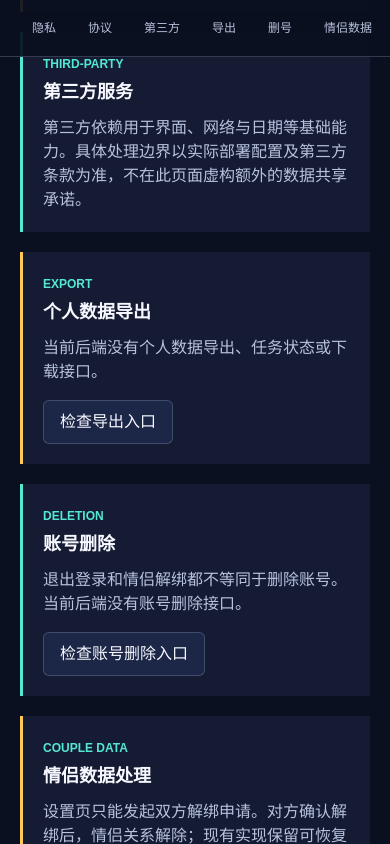
Test: 法律、隐私与数据权利页 › 已登录确认导出后固定 unavailable，零下载且不伪造进度或成功
This screenshot has width=390, height=844.
(page scrolled)
Click the button with test id "export-action": (108, 422) [43, 400, 173, 444]
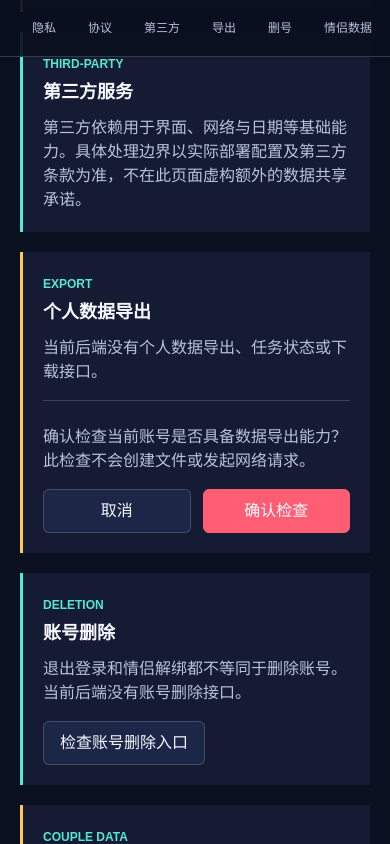
Click the button with test id "export-confirm": (276, 511) [202, 489, 350, 533]
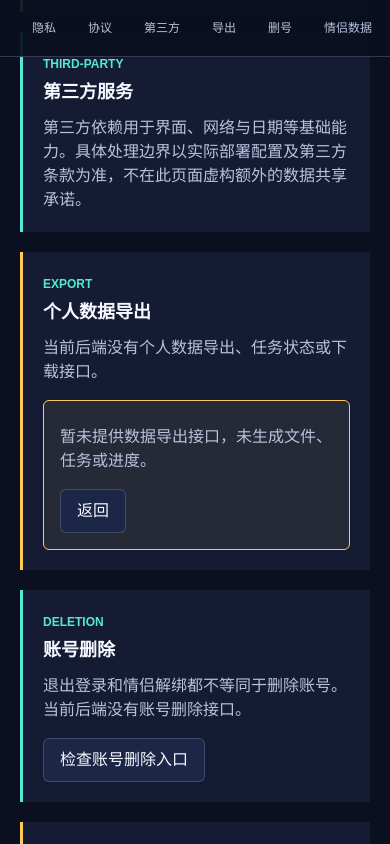
Result: the message with test id "export-unavailable" shows "暂未提供数据导出接口" at [60, 428, 332, 469]
